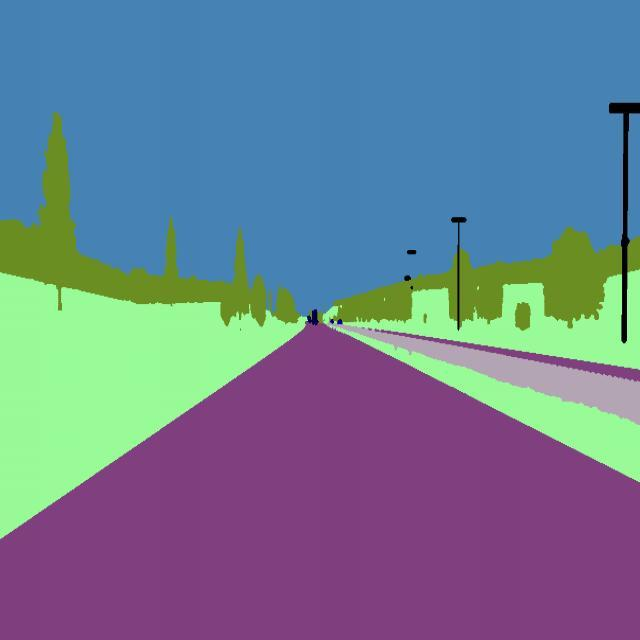safe: (310, 306, 320, 328), (338, 316, 346, 328)
